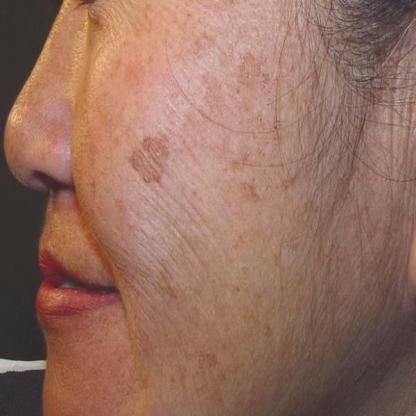darkspot: (237, 138, 287, 216), (233, 55, 281, 113), (128, 135, 165, 188), (194, 356, 230, 406)
wrinkle: (123, 116, 227, 338)
